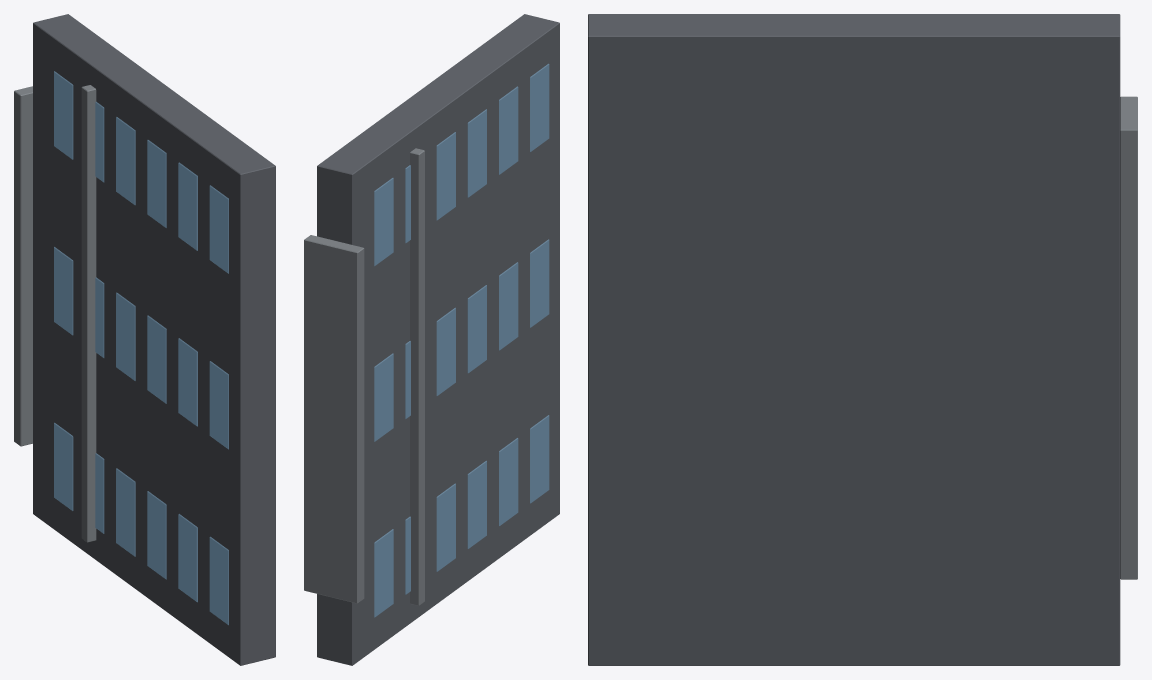
File: far_facade_shell_yard_r.glb
The picture shows the model from 3 angles, left to right: view 1: azimuth 30°, elevation 25°; view 2: azimuth 150°, elevation 25°; view 3: azimuth 270°, elevation 25°; orthographic projection. The views are drawn at different scales.
Parts seen in each view (by area): view 1: FlightKit_FarFacadeShell_yard_R; view 2: FlightKit_FarFacadeShell_yard_R; view 3: FlightKit_FarFacadeShell_yard_R.
Part boxes in pixels (x1=…): FlightKit_FarFacadeShell_yard_R: x1=14, y1=14, x2=275, y2=665; FlightKit_FarFacadeShell_yard_R: x1=304, y1=14, x2=559, y2=665; FlightKit_FarFacadeShell_yard_R: x1=588, y1=14, x2=1137, y2=665.
Bounding box in the file's own units: 1.8 × 15.68 × 12.4.
